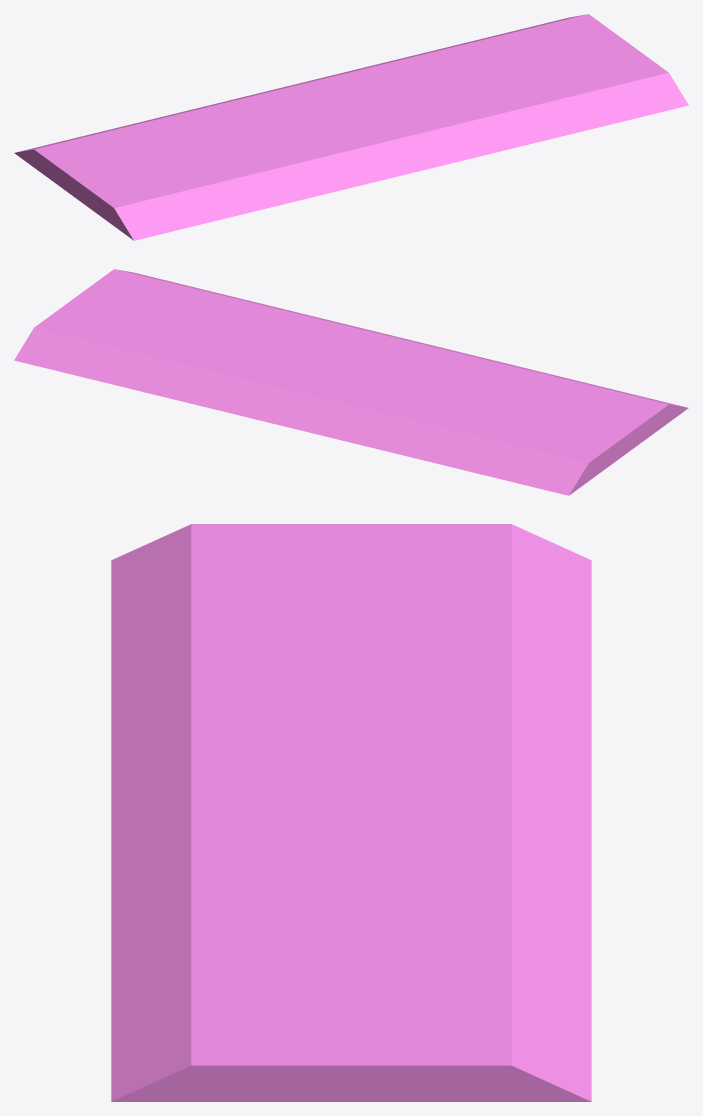
File: slav_deco_03.gltf
3 renders of one model, top to bottom at view 1: azimuth 30°, elevation 25°; view 2: azimuth 150°, elevation 25°; view 3: azimuth 270°, elevation 25°, orthographic. The views are drawn at different scales.
Parts seen in each view (by area): view 1: slav_deco_03; view 2: slav_deco_03; view 3: slav_deco_03.
Boxes of the visible parts, <box> form: slav_deco_03: <box>14,14,688,240</box>; slav_deco_03: <box>14,269,688,495</box>; slav_deco_03: <box>111,524,591,1101</box>.
Size of the model in its own units: 1.28 by 0.04 by 0.48.
